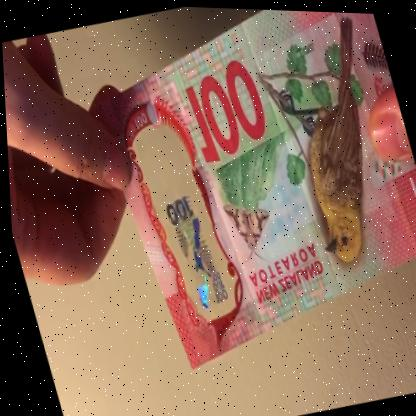100B: (148, 150, 231, 318)
